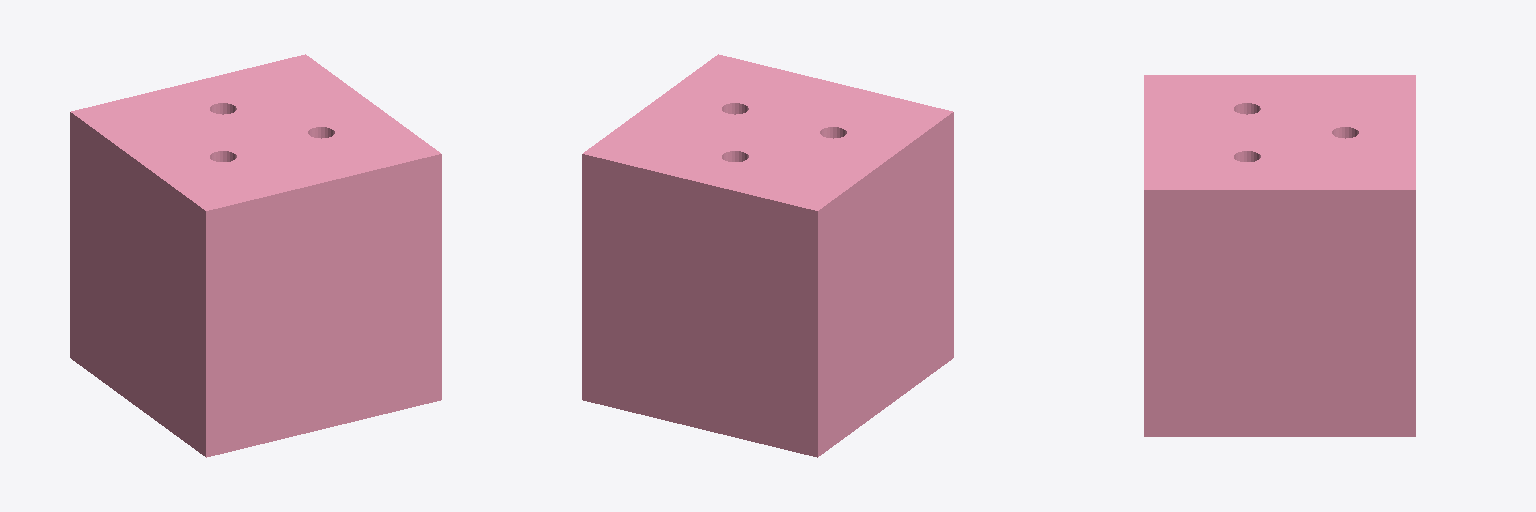
The picture shows the model from 3 angles: view 1: azimuth 30°, elevation 25°; view 2: azimuth 150°, elevation 25°; view 3: azimuth 270°, elevation 25°; orthographic projection.
Parts seen in each view (by area): view 1: gripping_item_v1; view 2: gripping_item_v1; view 3: gripping_item_v1.
Part boxes in pixels (bbox=[...]): gripping_item_v1: bbox=[70, 54, 441, 457]; gripping_item_v1: bbox=[582, 54, 953, 457]; gripping_item_v1: bbox=[1144, 75, 1415, 436].
Size of the model in its own units: 0.6 by 0.6 by 0.6.
1 materials, 1 textured.